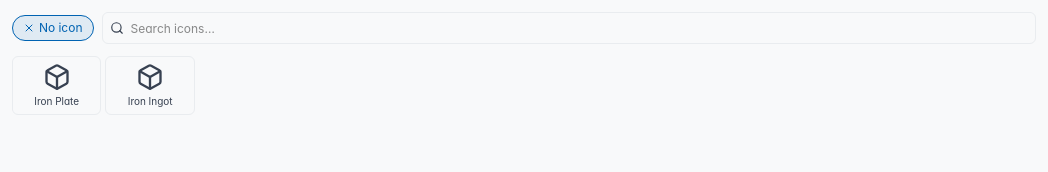
Test: <IconPicker /> › still matches a pasted class name
This screenshot has width=1048, height=172.
Type "Desc_IronIngot_C" into the search field with placeholder "Search icons…".
click(569, 28); type("Desc_IronIngot_C")  # box [102, 12, 1036, 44]
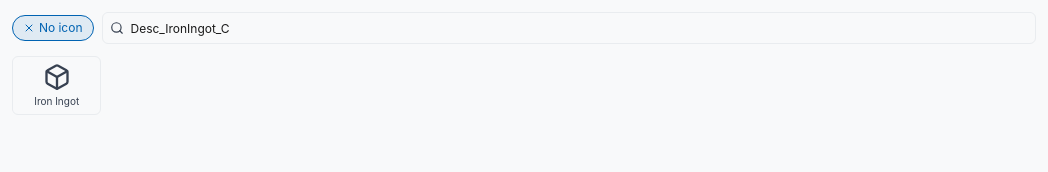
Check: the text "Iron Ingot" is shown, box [34, 95, 79, 107]
Check: the button "Iron Plate" is gone
